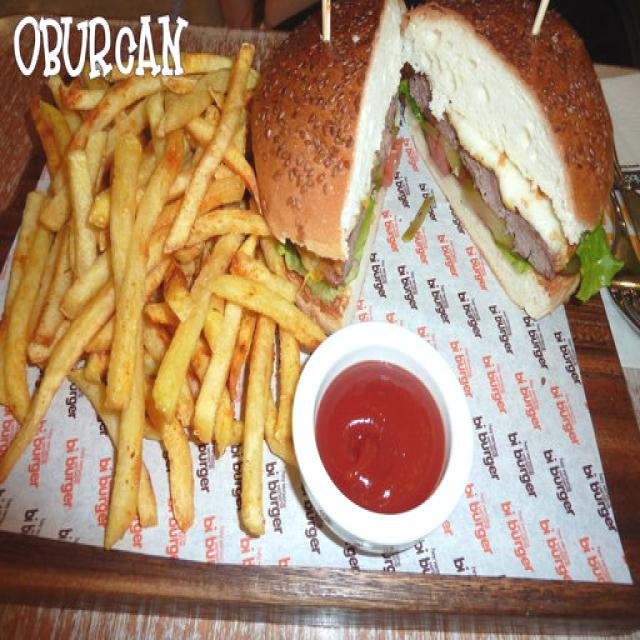burger: (410, 0, 640, 379)
